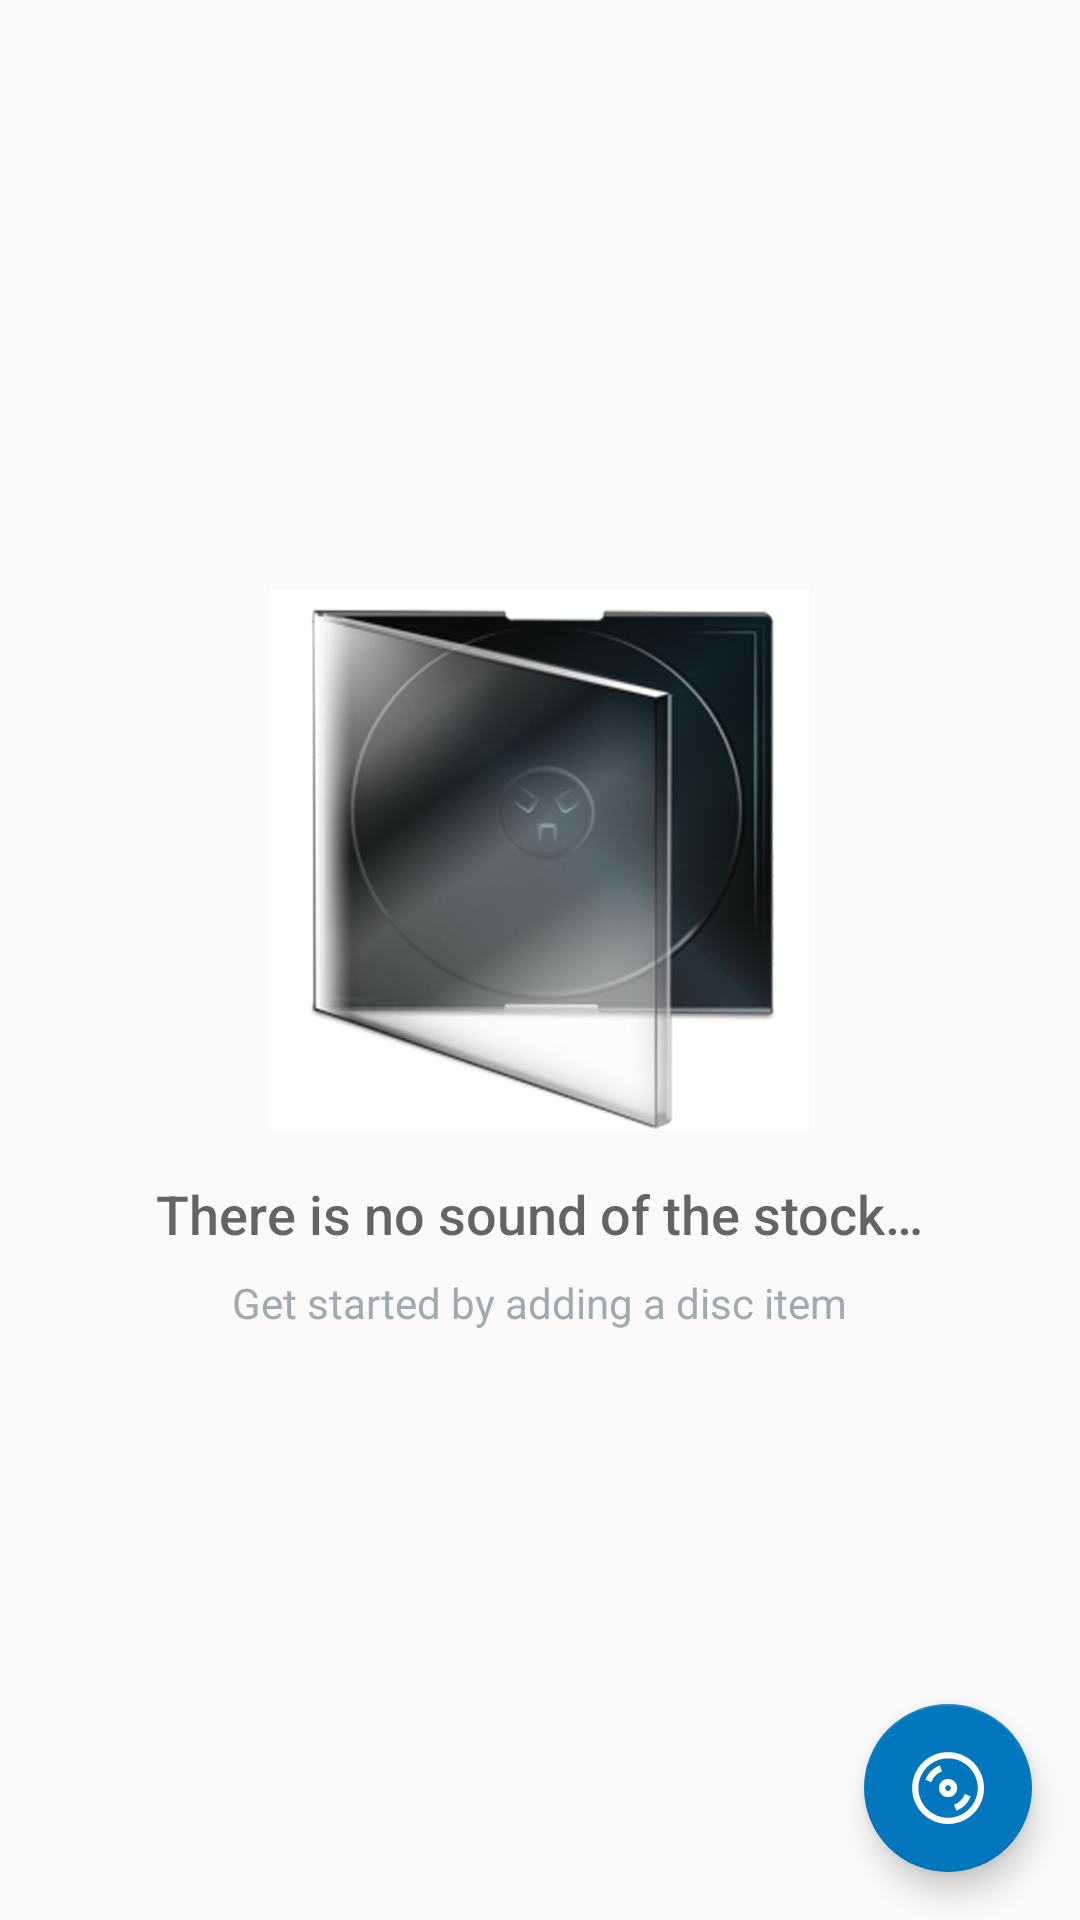

Screen size 1080x1920. Icon name, then its box in pixels as [left=x1, top=y1, right=x2, bottom=y2]:
disc: [left=864, top=1704, right=1032, bottom=1872]
